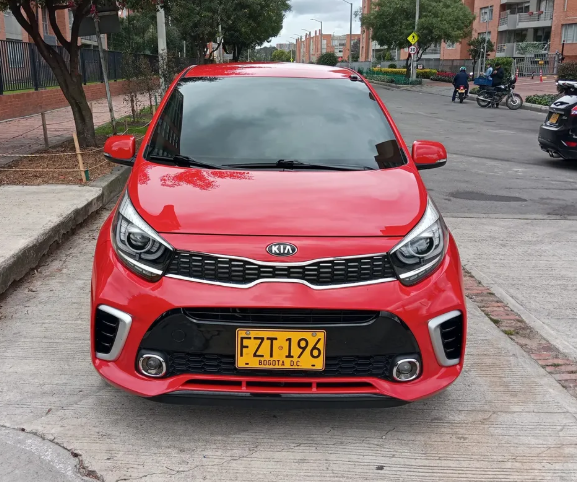placa: (237, 329, 327, 370)
